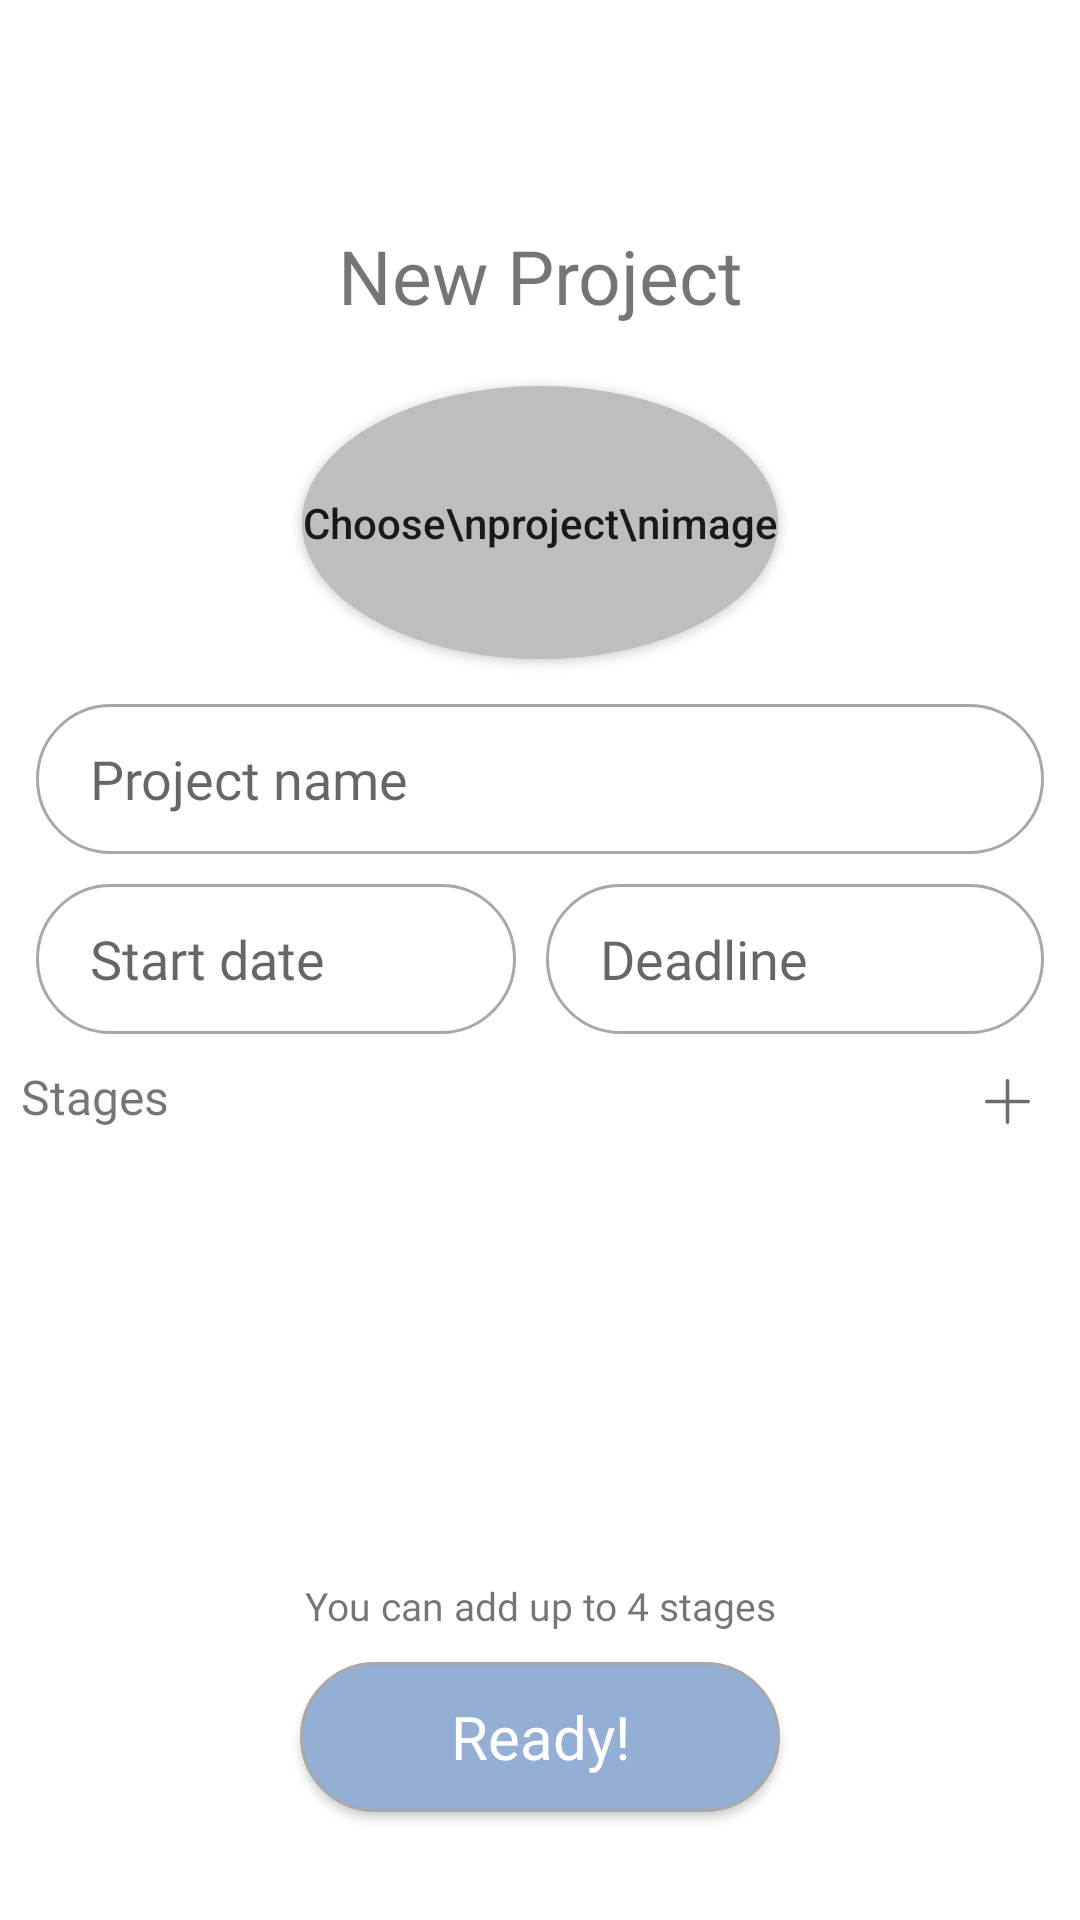

Named icons in this screenshot (1080w x 1920h) and their bounding boxes, box=[x1, y1, x2, y2]:
plus: box=[985, 1079, 1030, 1124]
